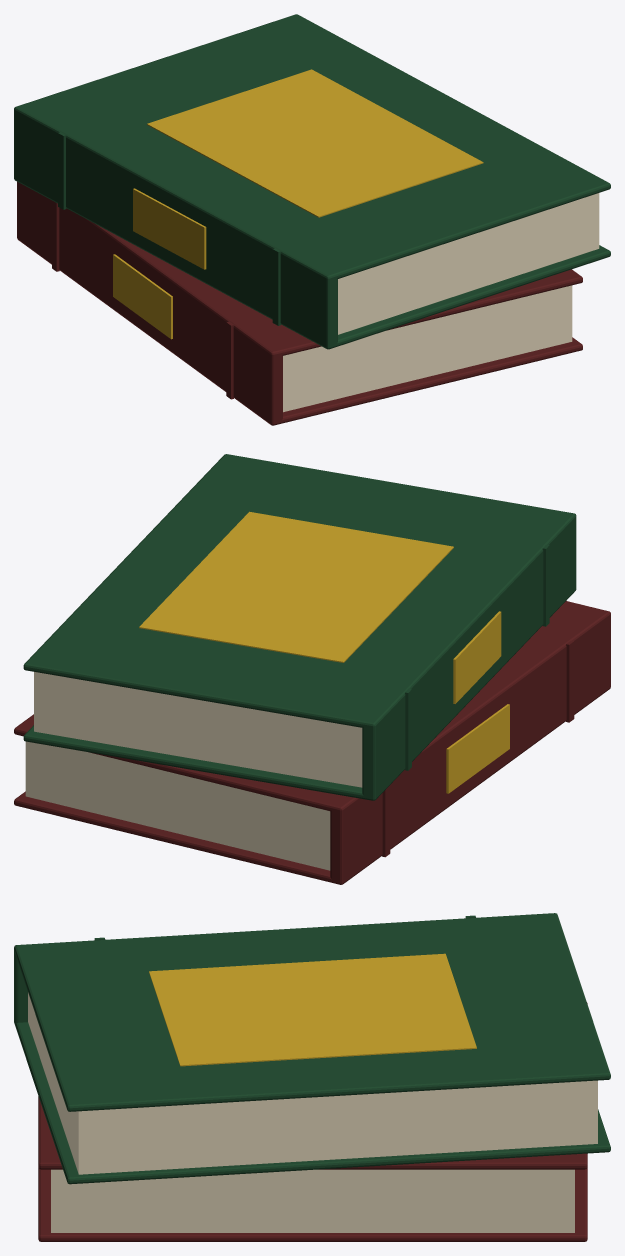
File: BookPair.fbx
The picture shows the model from 3 angles, top to bottom: view 1: azimuth 30°, elevation 25°; view 2: azimuth 150°, elevation 25°; view 3: azimuth 270°, elevation 25°; orthographic projection. The views are drawn at different scales.
Visible parts, largest first — view 1: BookPair; view 2: BookPair; view 3: BookPair.
Boxes of the visible parts, bbox=[...] form: BookPair: bbox=[14, 14, 610, 425]; BookPair: bbox=[14, 454, 610, 884]; BookPair: bbox=[14, 913, 610, 1241].
Size of the model in its own units: 18.38 by 7.05 by 23.92.
